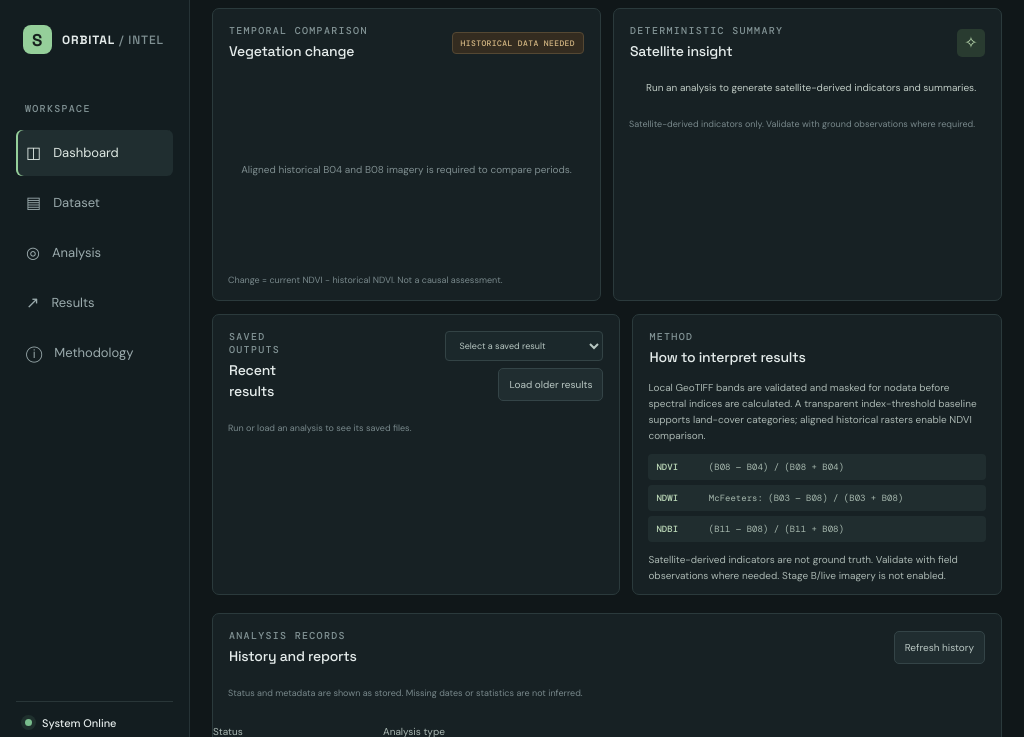
it: dashboard › loads older saved results only when requested
(page scrolled)
Click the button "Load older results": (551, 384) [498,368,604,400]
(page scrolled)
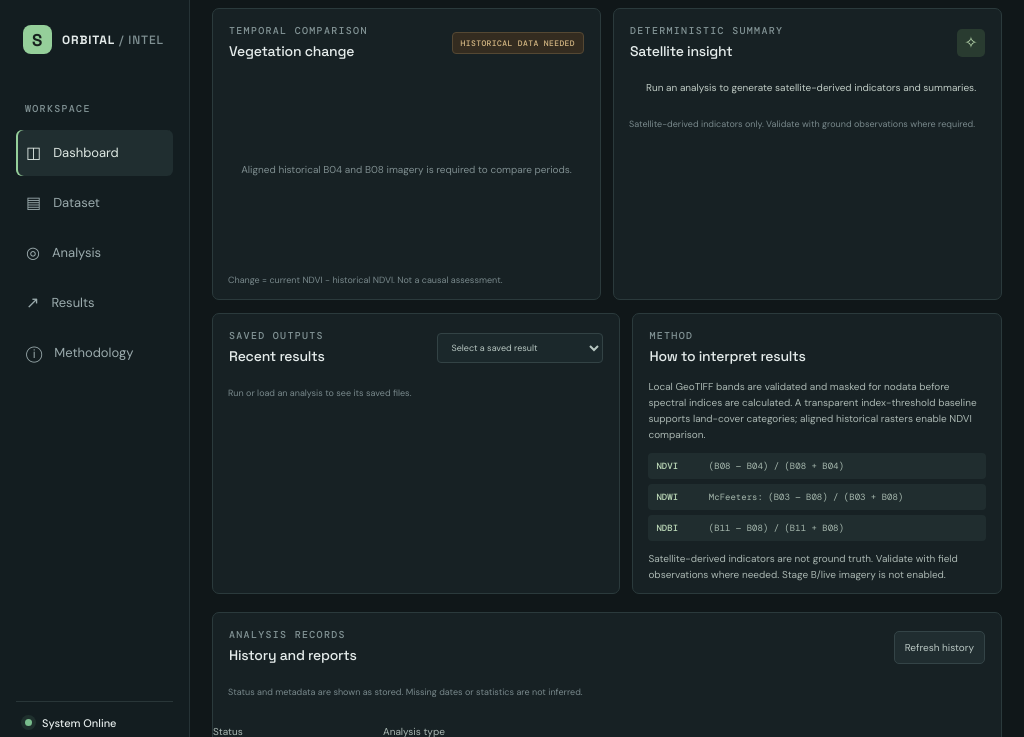
Expected: the button "Load older results" is gone
